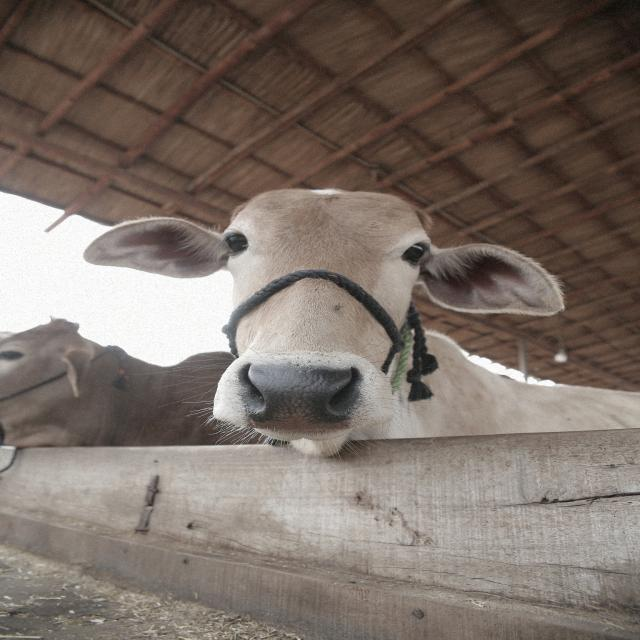muzzles: (219, 356, 371, 434)
